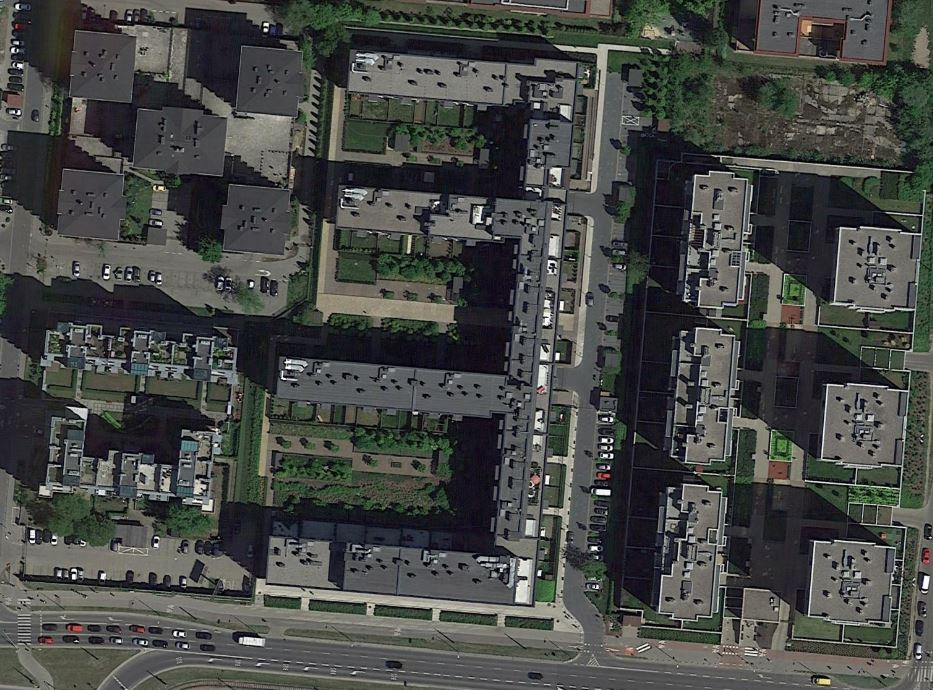block of flats: (262, 52, 587, 611), (33, 312, 244, 423), (26, 413, 237, 518), (648, 477, 739, 627), (669, 162, 756, 310), (667, 320, 746, 470), (737, 1, 899, 65), (828, 223, 929, 315), (815, 380, 913, 473), (807, 533, 900, 628), (129, 101, 225, 183), (210, 177, 303, 260), (230, 42, 311, 124), (65, 24, 135, 112), (53, 166, 130, 245)
